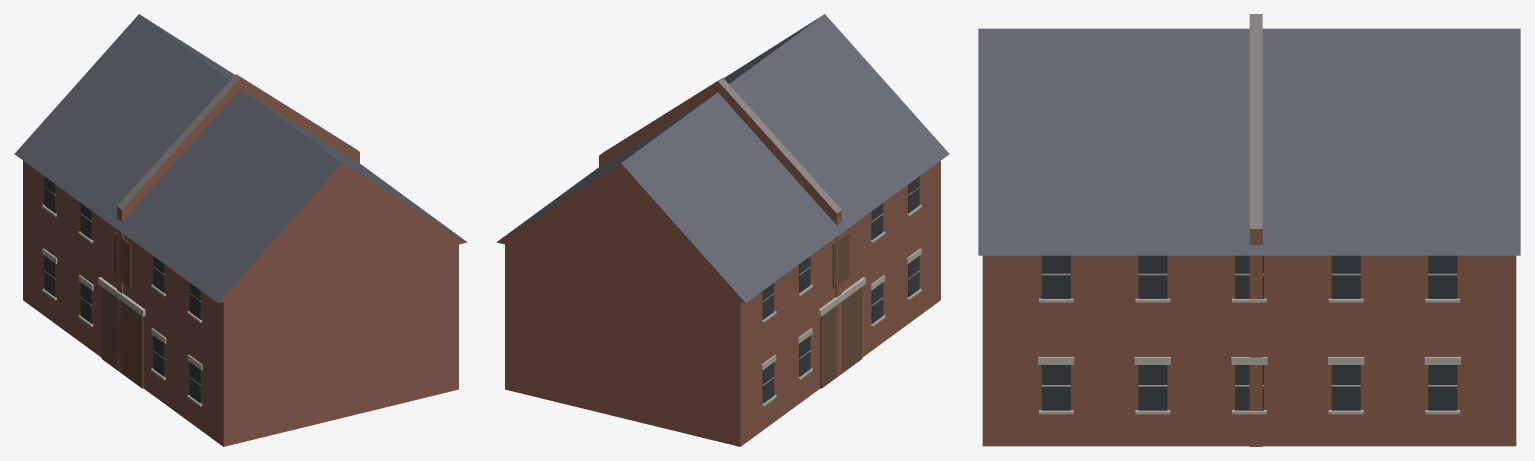
Rendered from mark_kimball_house_2108_prairie_coach_house__draft_1904.glb.
The picture shows the model from 3 angles, left to right: view 1: azimuth 30°, elevation 25°; view 2: azimuth 150°, elevation 25°; view 3: azimuth 270°, elevation 25°; orthographic projection. The views are drawn at different scales.
Parts seen in each view (by area): view 1: mark_kimball_house_2108_prairie_coach_house__draft_1904; view 2: mark_kimball_house_2108_prairie_coach_house__draft_1904; view 3: mark_kimball_house_2108_prairie_coach_house__draft_1904.
Part boxes in pixels (x1,y1,x2,y2): mark_kimball_house_2108_prairie_coach_house__draft_1904: (14, 14, 467, 446); mark_kimball_house_2108_prairie_coach_house__draft_1904: (496, 14, 949, 446); mark_kimball_house_2108_prairie_coach_house__draft_1904: (978, 14, 1520, 446).
Bounding box in the file's own units: 10.6 × 10.84 × 14.99.
